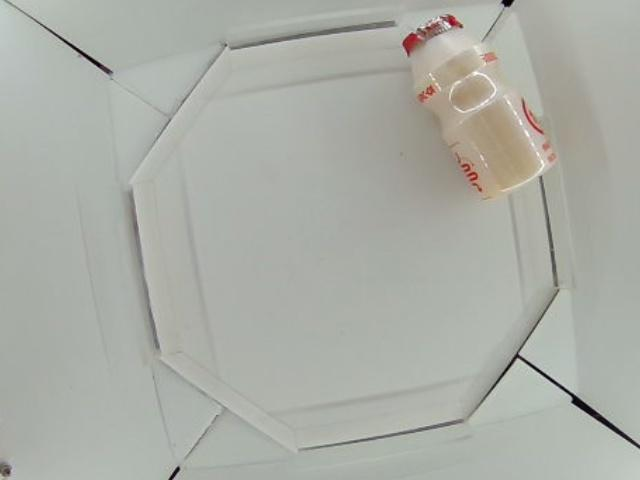Bottle: (407, 11, 559, 197)
